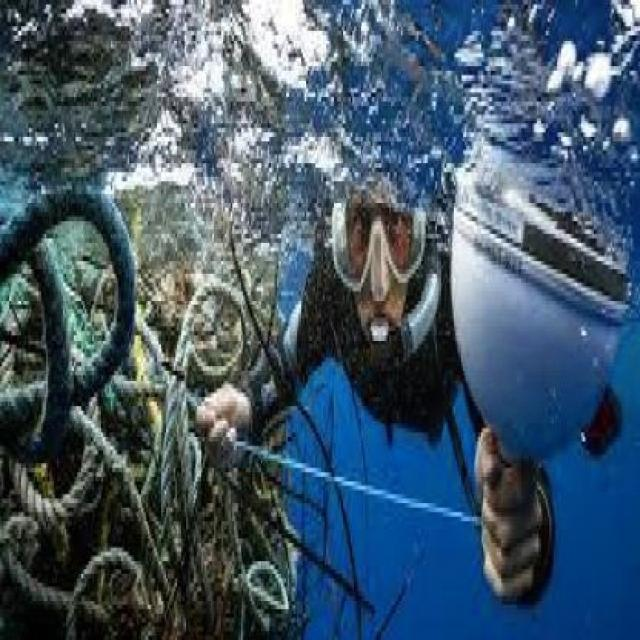net: (1, 184, 275, 640)
